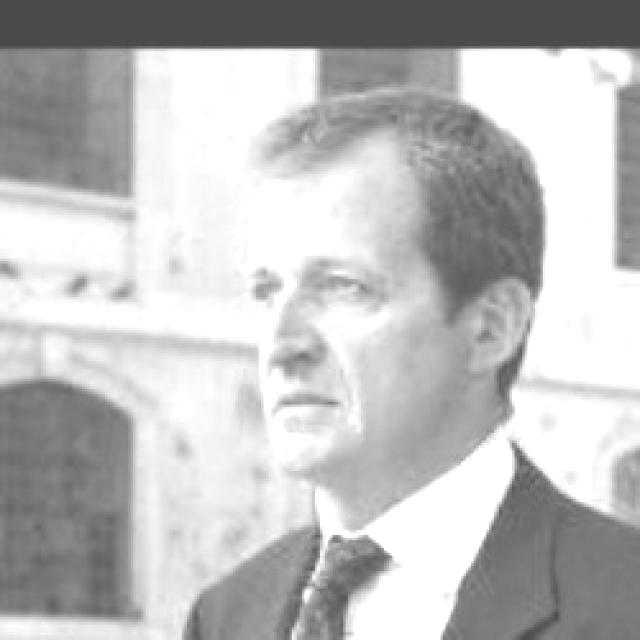real: (232, 112, 525, 500), (253, 263, 395, 311)
